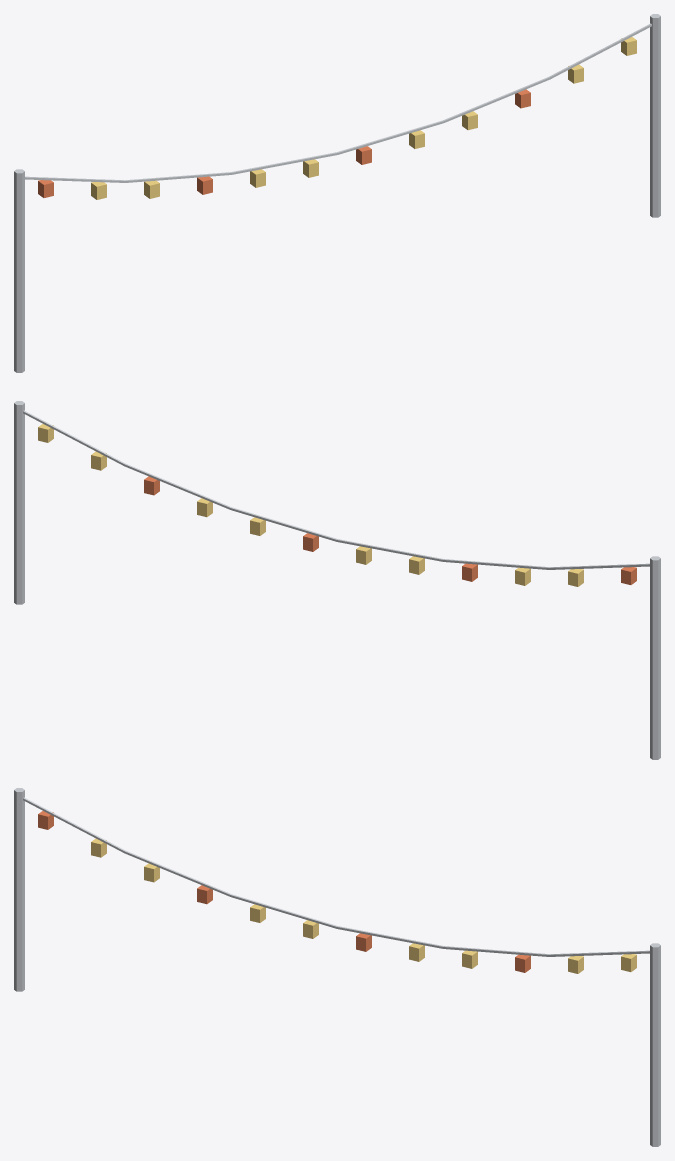
Rendered from d_lights.fbx.
The picture shows the model from 3 angles, top to bottom: view 1: azimuth 30°, elevation 25°; view 2: azimuth 150°, elevation 25°; view 3: azimuth 330°, elevation 25°; orthographic projection.
Parts seen in each view (by area): view 1: d_lights; view 2: d_lights; view 3: d_lights.
Boxes of the visible parts, x1,y1,x2,y2 form: d_lights: (14,14,660,372); d_lights: (14,401,660,759); d_lights: (14,788,660,1146).
Size of the model in its own units: 20.26 by 6 by 0.32.
